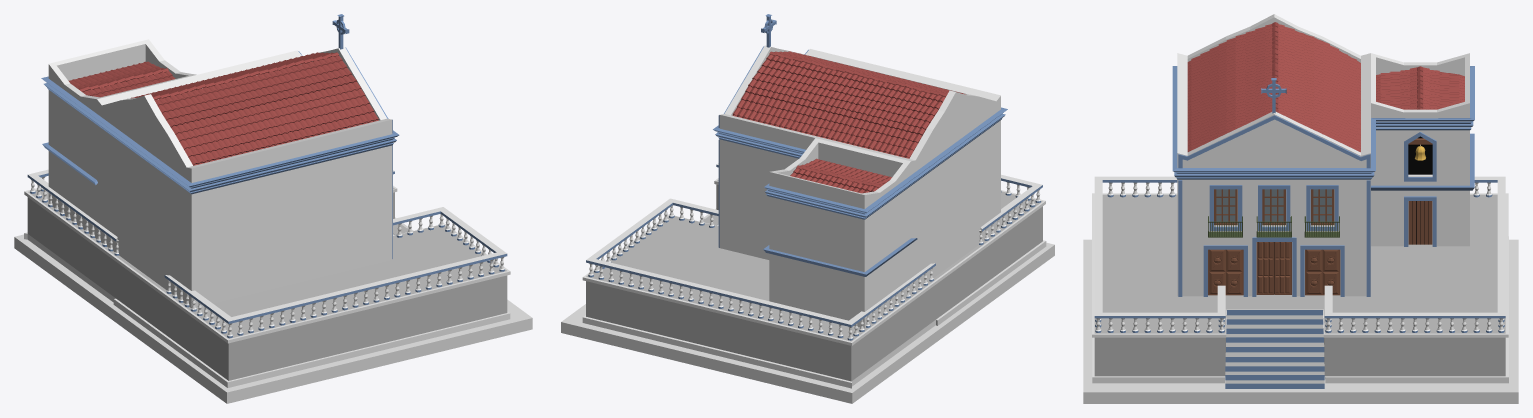
The model's file is casa1.fbx.
The picture shows the model from 3 angles, left to right: view 1: azimuth 30°, elevation 25°; view 2: azimuth 150°, elevation 25°; view 3: azimuth 270°, elevation 25°; orthographic projection. The views are drawn at different scales.
Visible parts, largest first — view 1: Plane.004, Cube.020; view 2: Plane.004, Cube.020; view 3: Plane.004, Cube.020.
Boxes of the visible parts, x1,y1,x2,y2 form: Plane.004: [24, 14, 510, 387]; Cube.020: [14, 217, 532, 403]; Plane.004: [582, 14, 1046, 388]; Cube.020: [561, 208, 1054, 403]; Plane.004: [1092, 14, 1508, 388]; Cube.020: [1083, 239, 1518, 403].
Size of the model in its own units: 680 by 573 by 819.
